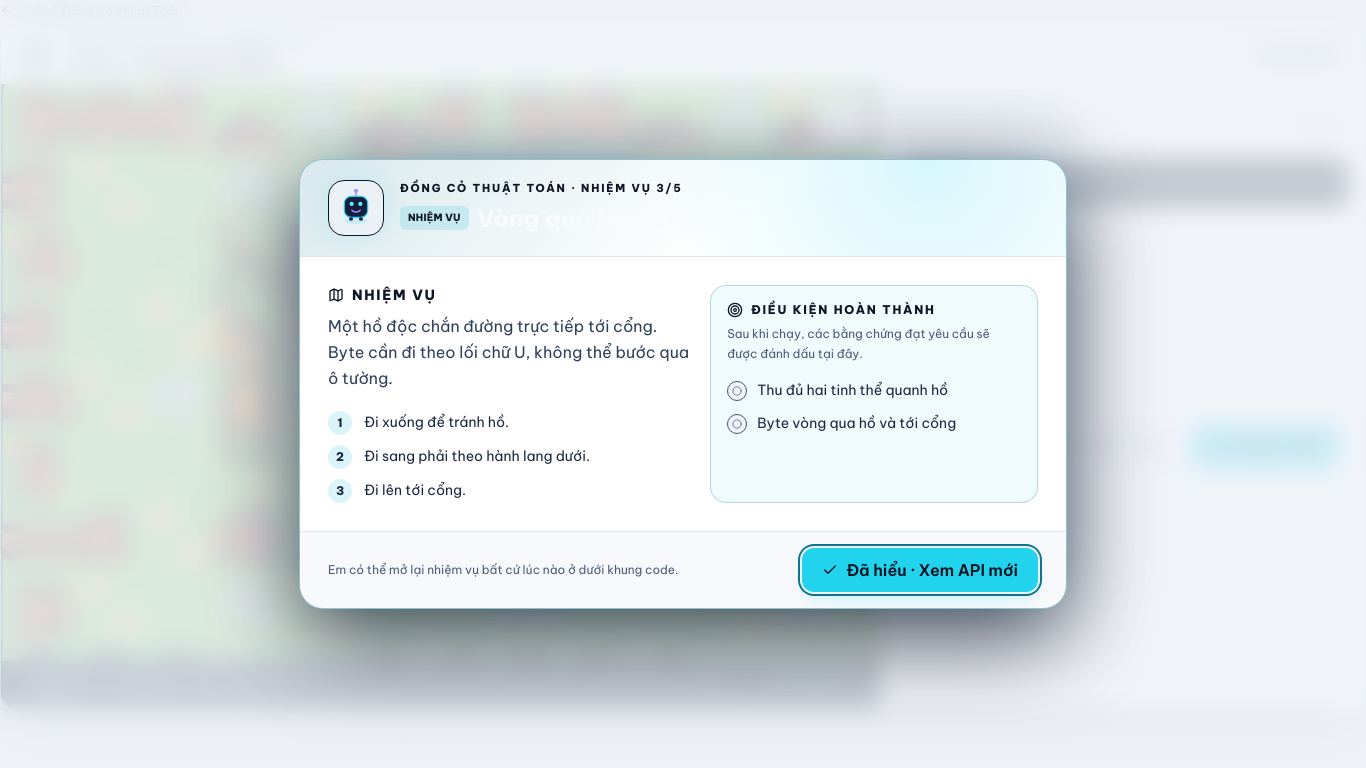
Test: Stage chung cho mọi nhiệm vụ › đổi biểu tượng theo cách chạy đã chọn
Click the button "Đã hiểu · Xem API mới" at (920,570), box [802,548,1038,592]
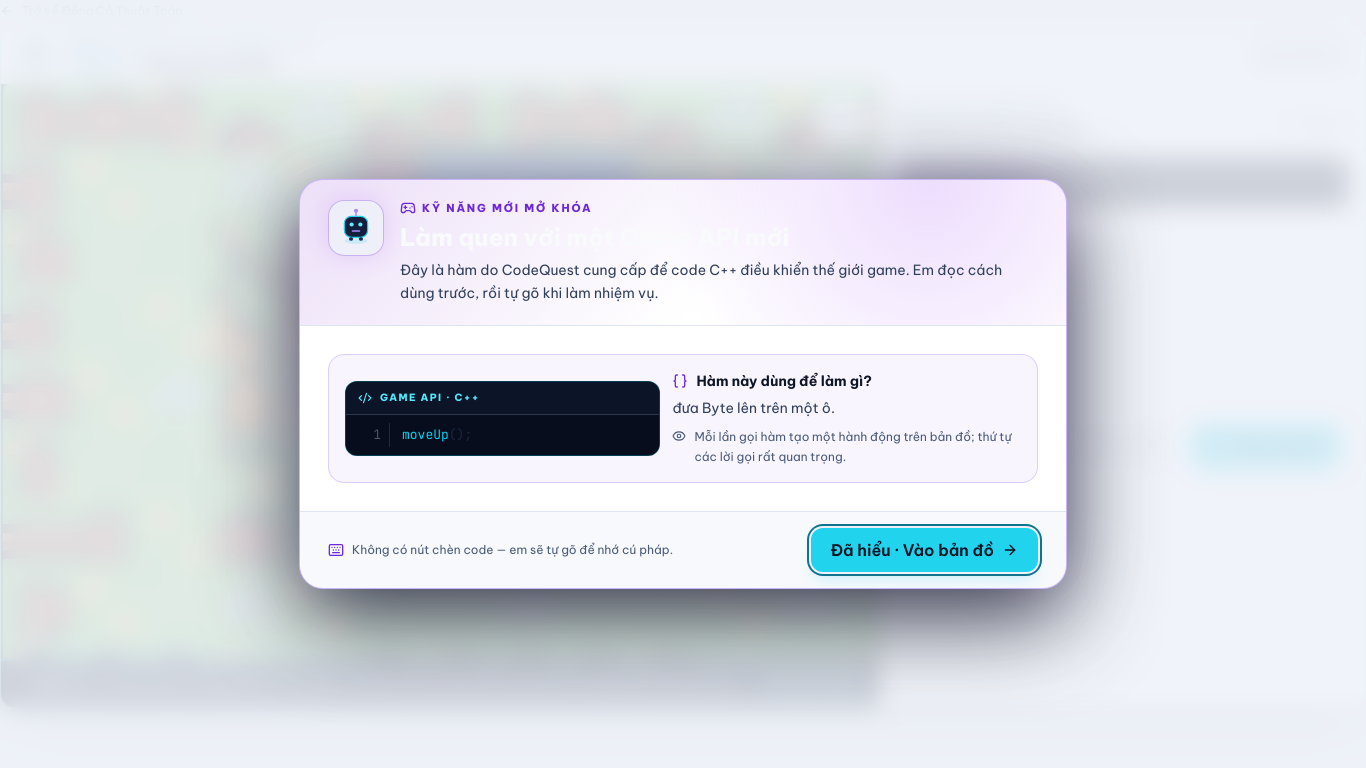
Click the button "Đã hiểu · Vào bản đồ" at (924,550), box [810,528,1038,572]
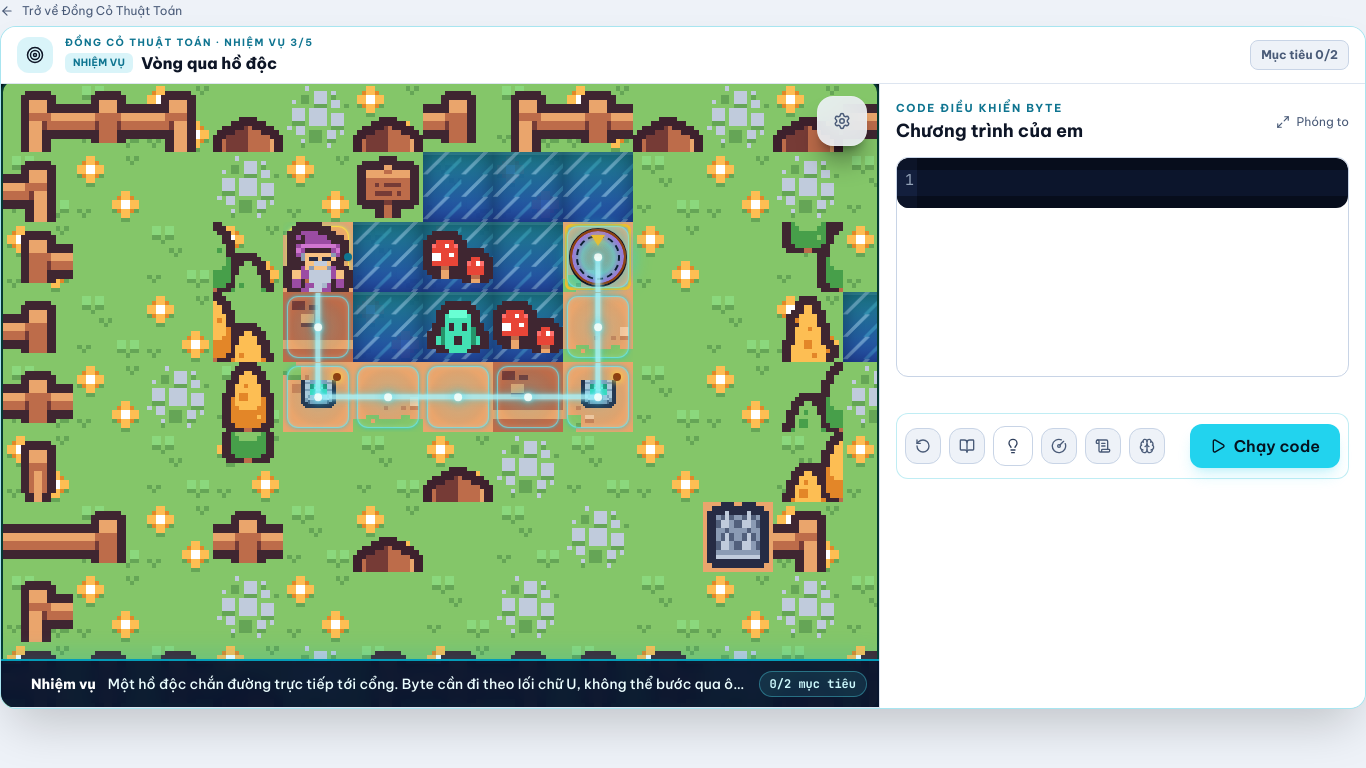
Check: the icon with class "lucide-circle-gauge" is shown, box [1051,438,1067,454]
Click the button named "Cách chạy: Thường" at (1059,446), box [1041,428,1077,464]
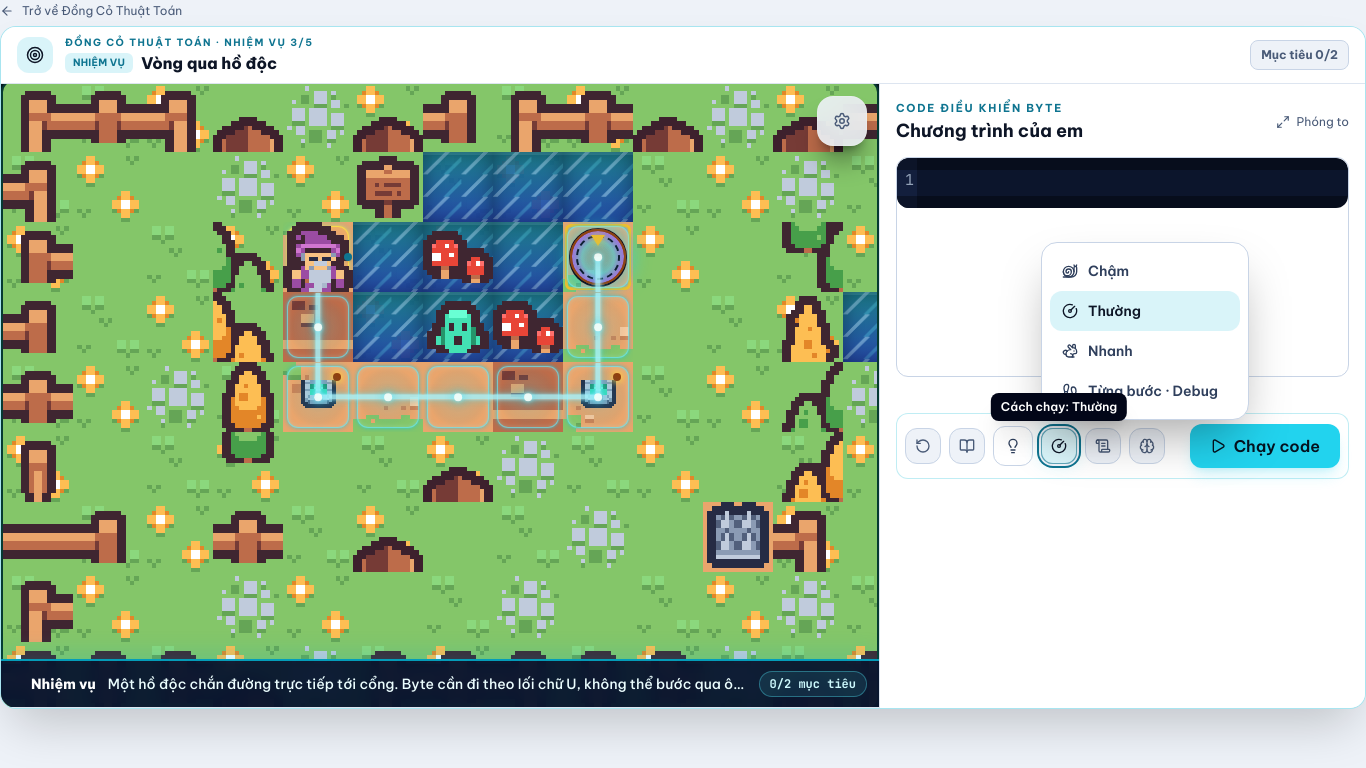
Click the menu item "Nhanh" at (1145,351), box [1050,331,1240,371]
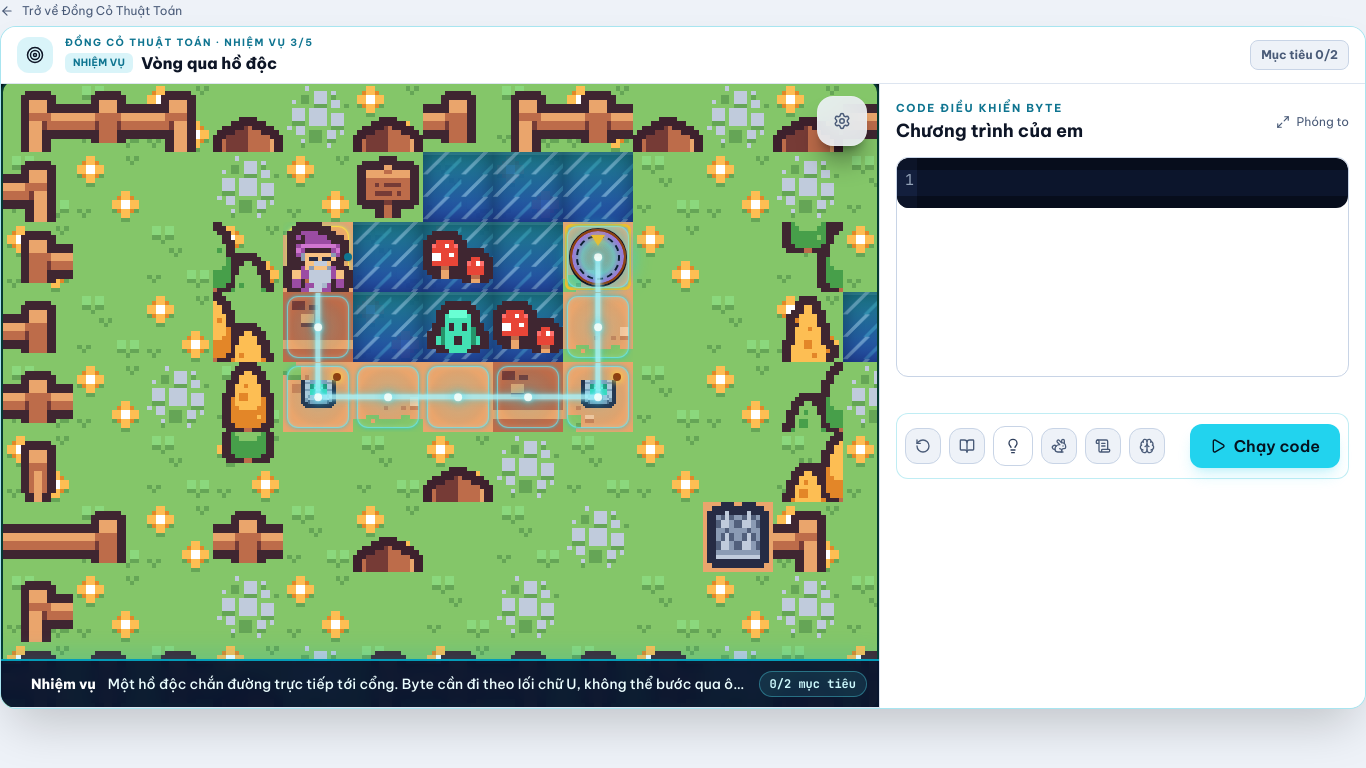
Check: the icon with class "lucide-rabbit" is shown, box [1051,438,1067,454]
